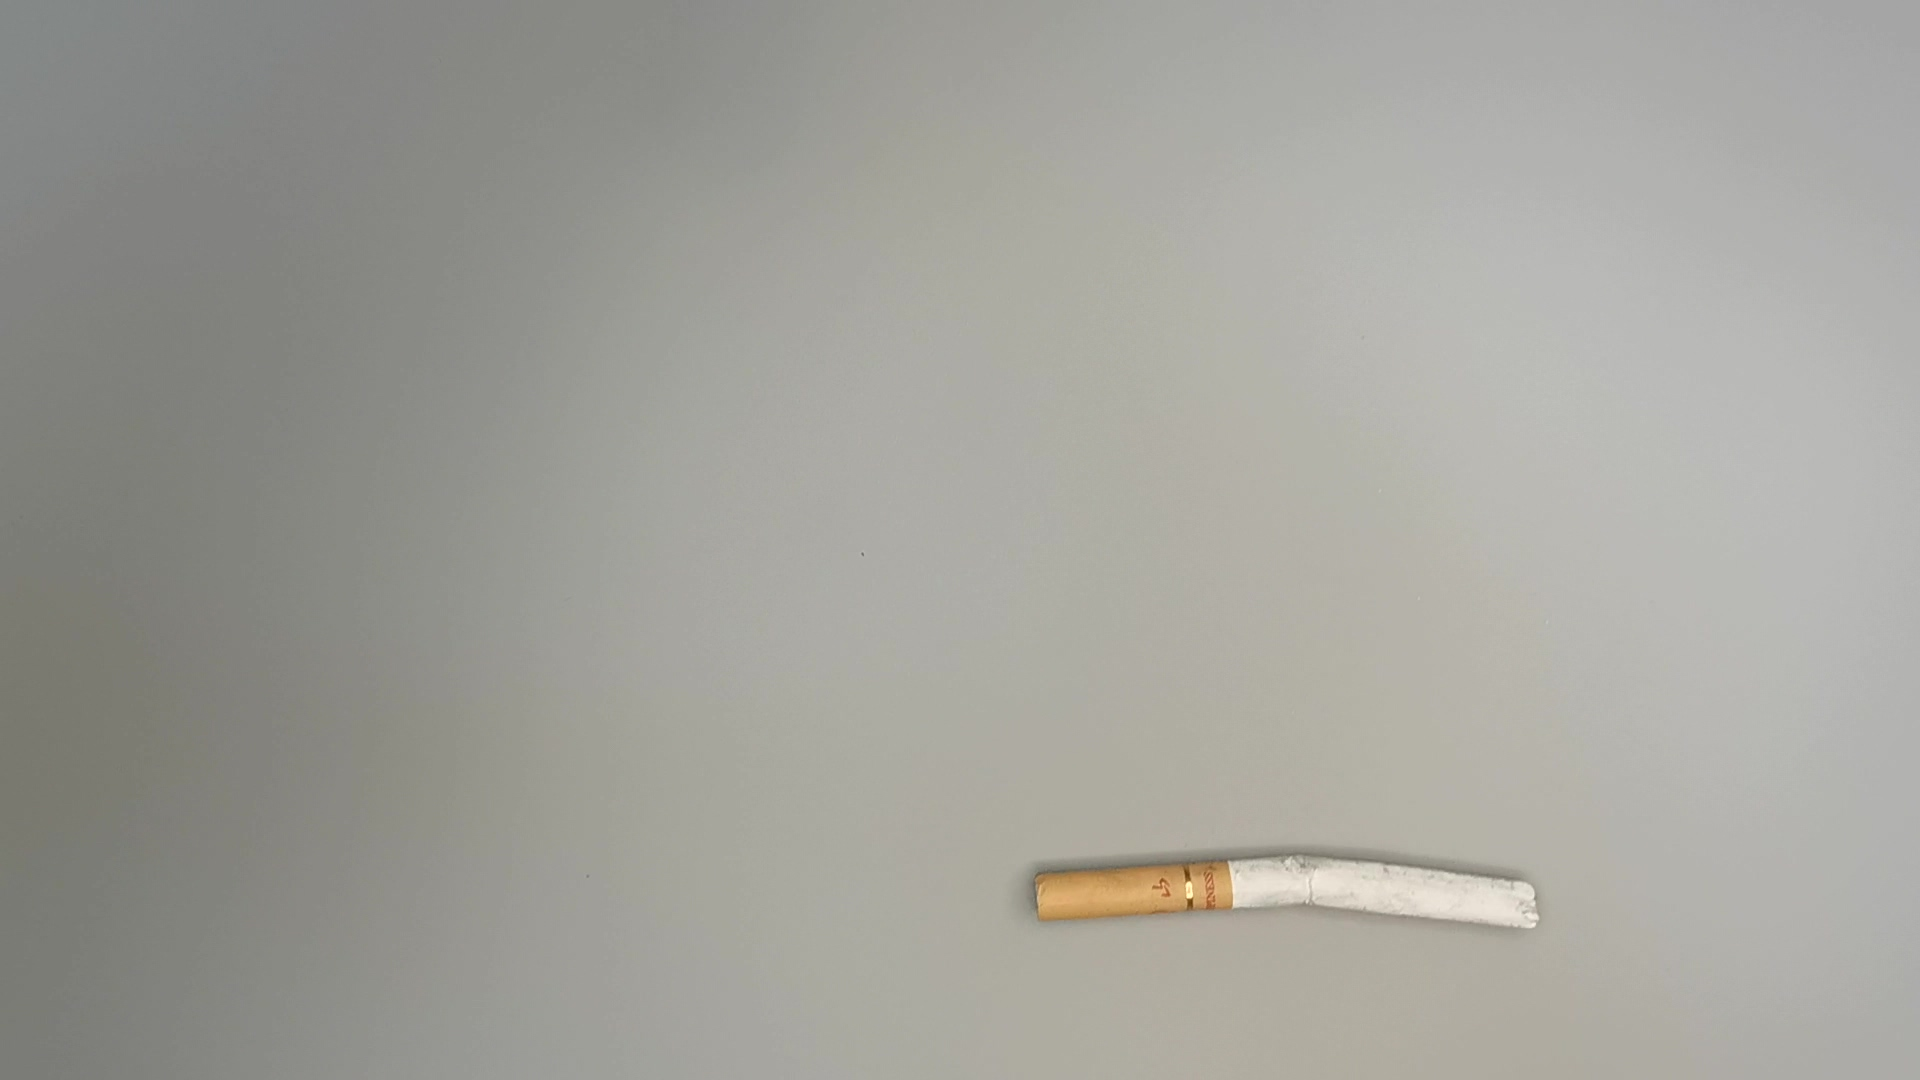cigarette: (1015, 843, 1559, 945)
